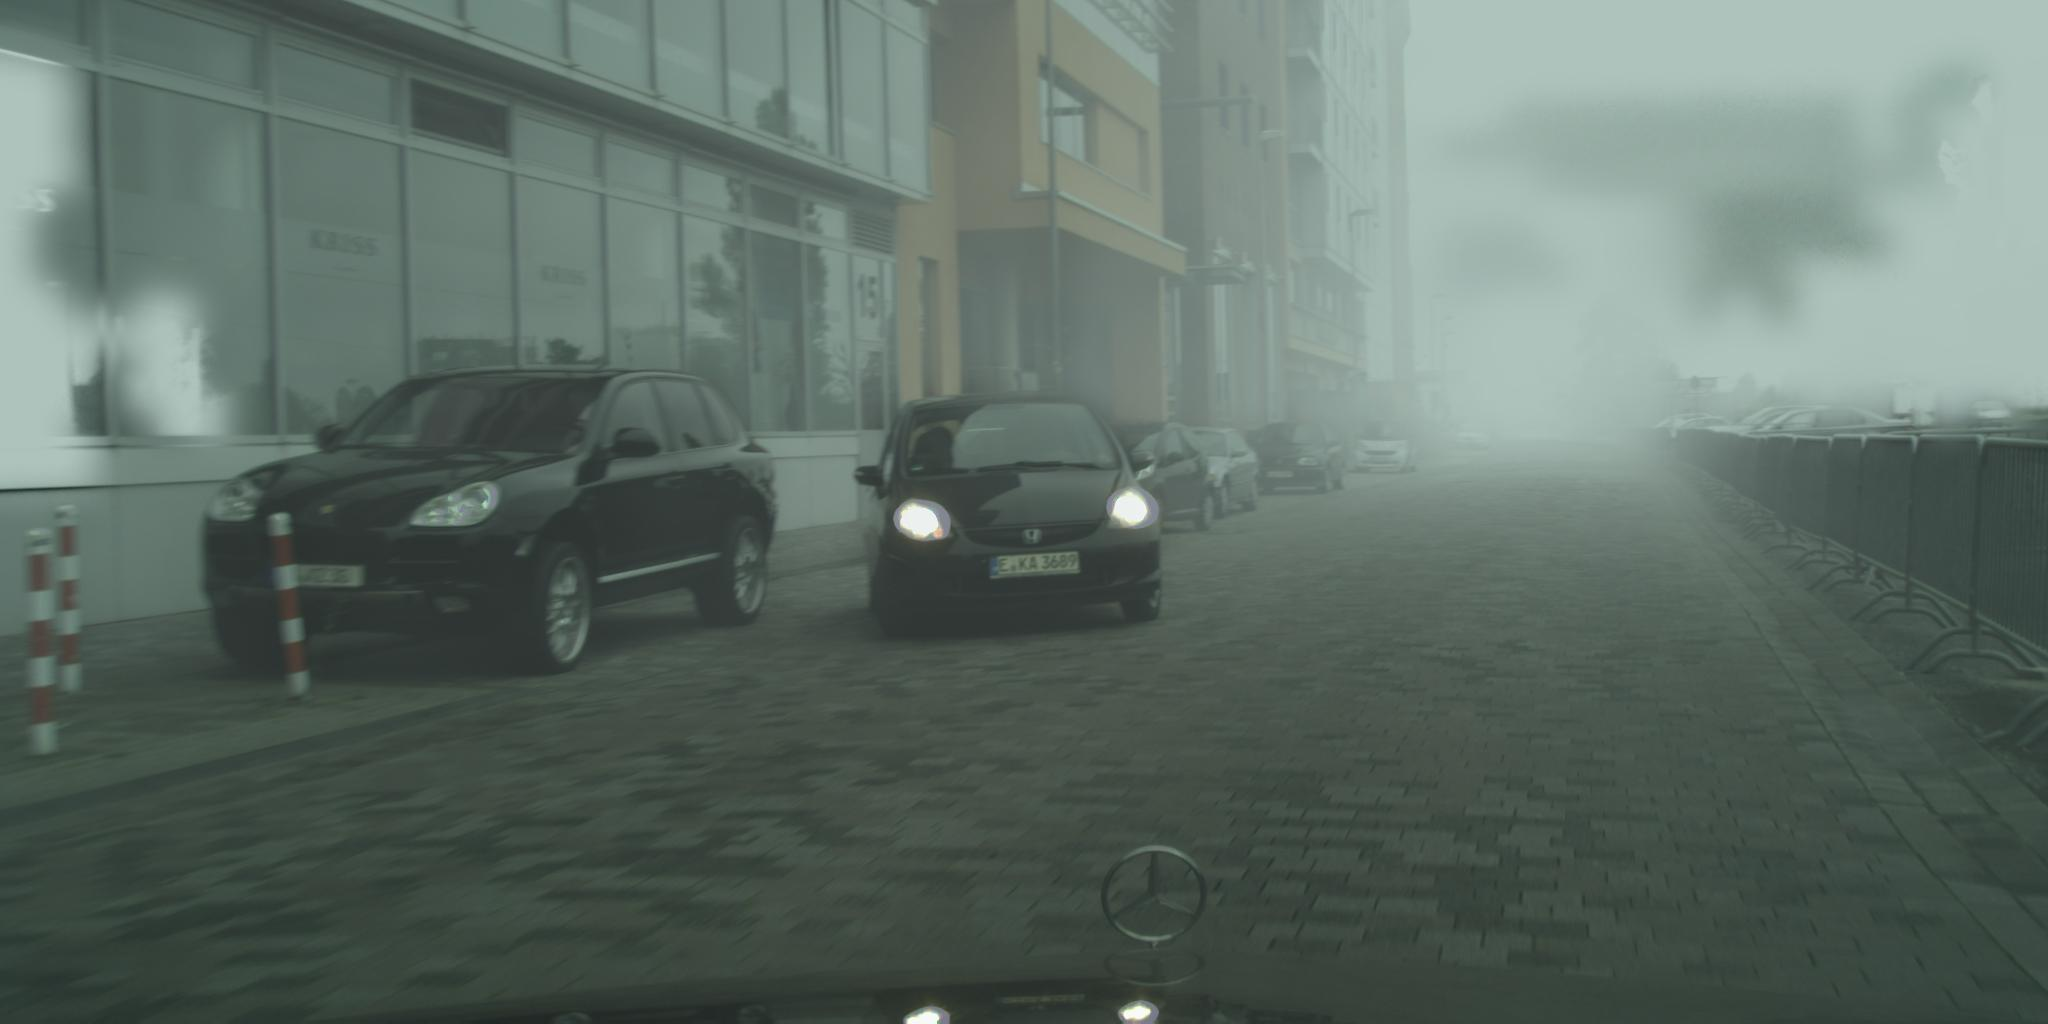car: (202, 367, 780, 677), (854, 391, 1162, 640), (1096, 422, 1219, 534), (1246, 423, 1349, 496), (1181, 427, 1260, 519), (1354, 418, 1420, 475), (1439, 414, 1494, 451), (1968, 398, 2017, 430)
